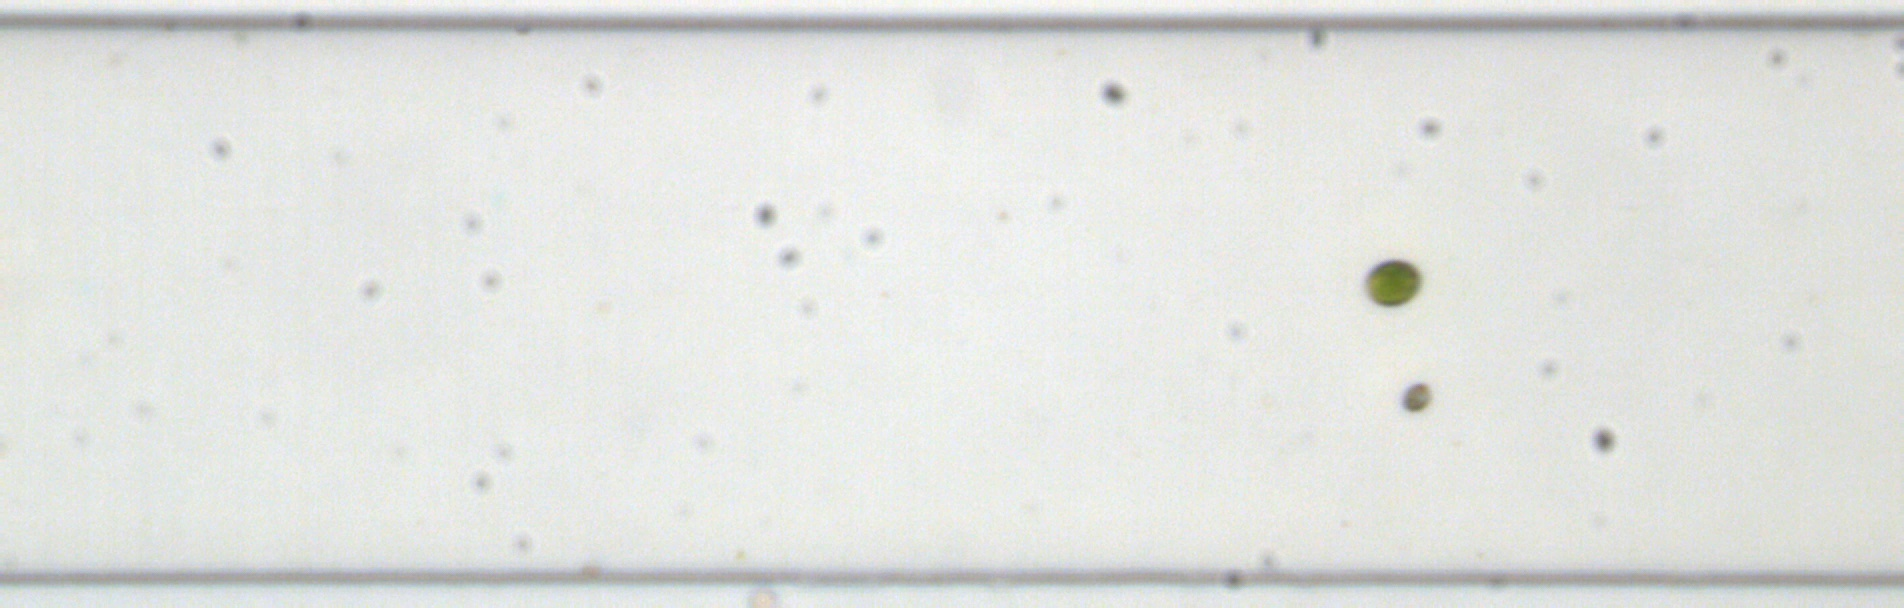Dunaliella salina: (1398, 377, 1432, 414)
Platymonas: (1358, 256, 1426, 311)
